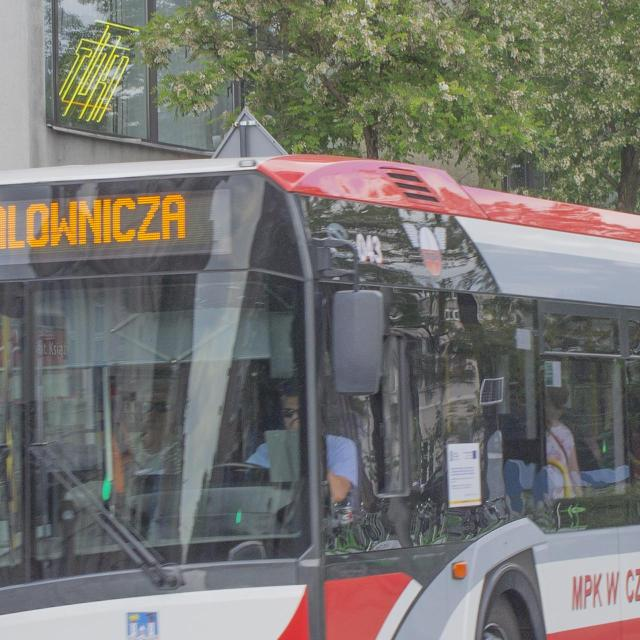Bus: (0, 155, 640, 640)
